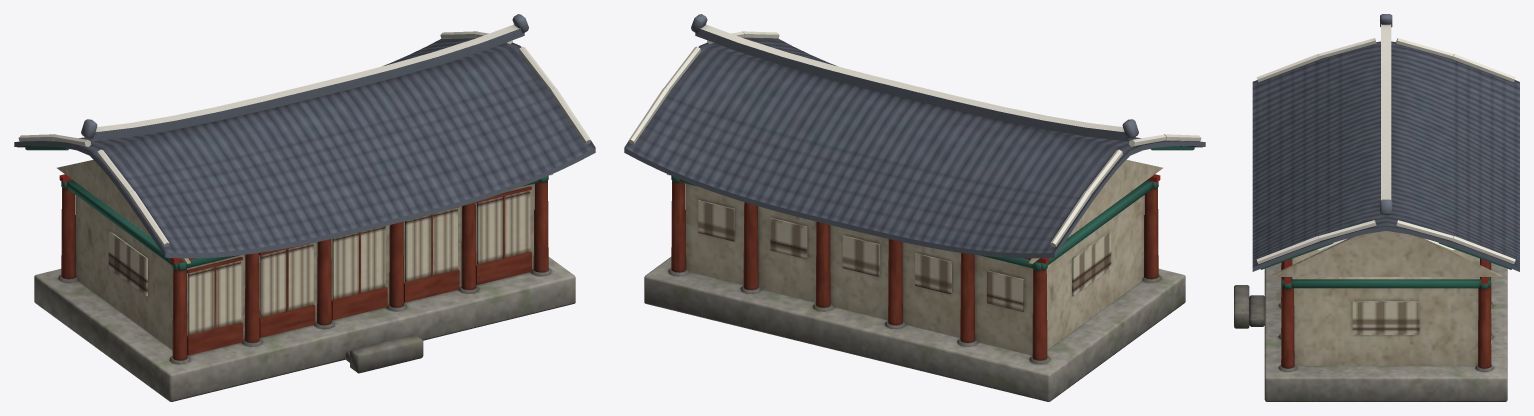
The model's file is ftown.glb.
3 views of the same model, side by side, from view 1: azimuth 30°, elevation 25°; view 2: azimuth 150°, elevation 25°; view 3: azimuth 270°, elevation 25° (orthographic). The views are drawn at different scales.
Parts seen in each view (by area): view 1: hall; view 2: hall; view 3: hall.
Part boxes in pixels (bbox=[...]): hall: bbox=[14, 14, 595, 401]; hall: bbox=[624, 14, 1205, 401]; hall: bbox=[1234, 14, 1519, 401].
Size of the model in its own units: 14.75 by 7.47 by 9.3.
1 material, 1 textured.
